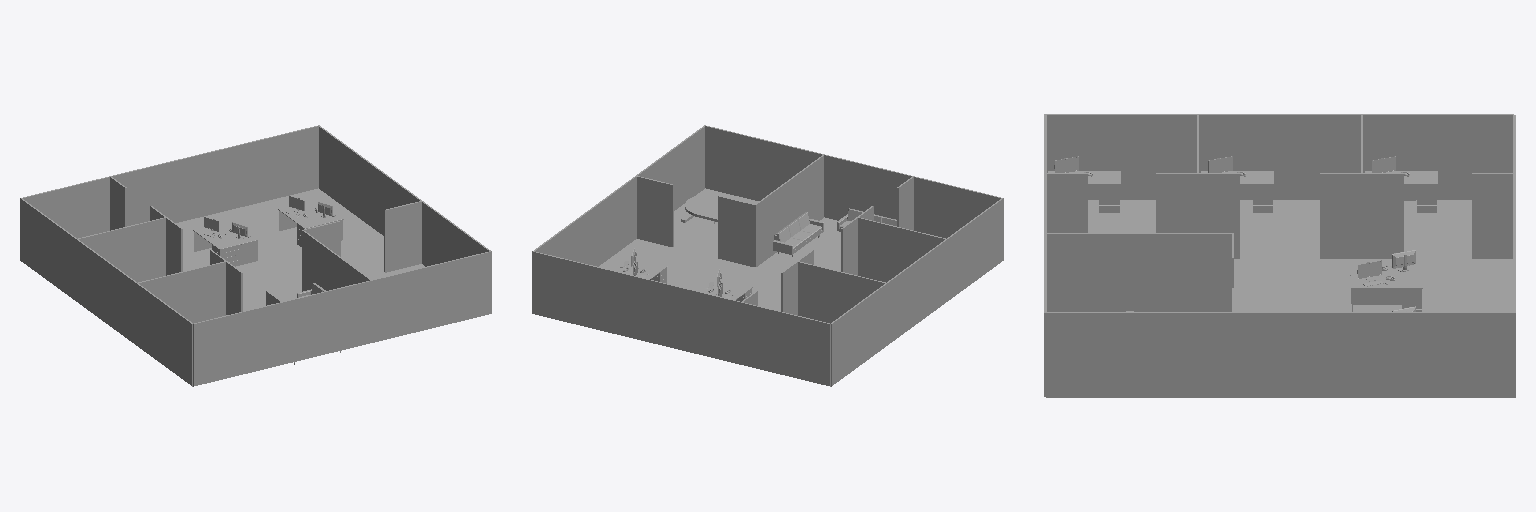
robot.urdf — car:
<?xml version="1.0"?>
<robot name="car">
    <material name="grey">
        <color rgba="0.7 0.7 0.7 1.0"/>
    </material>

    <link name="base">
        <visual>
            <origin rpy="1.5707 0 0" xyz="5 5 0.0"/>
            <geometry>
                <mesh filename="package://office/office.obj"/>
            </geometry>
            <material name="grey"/>
        </visual>
        <collision concave="yes">
            <origin rpy="1.5707 0 0" xyz="5 5 -0.1"/>
            <geometry>
                <mesh filename="package://office/office.obj"/>
            </geometry>
        </collision>
    </link>

</robot>

--- Render facts (derived) ---
The picture shows the robot from 3 angles, left to right: view 1: azimuth 30°, elevation 25°; view 2: azimuth 150°, elevation 25°; view 3: azimuth 270°, elevation 25°; orthographic projection.
Robot: car — 1 links, 0 joints (none); root link base; default pose: all joints at 0.
Visible links, largest first — view 1: base; view 2: base; view 3: base.
Boxes of the visible links, x1,y1,x2,y2 form: base: (20, 125, 491, 386); base: (532, 125, 1003, 386); base: (1044, 114, 1515, 397).
Bounding box of the posed robot: 20.1 × 20.1 × 4.3 m (x, y, z).
Meshes: 1 distinct files referenced, 1 mesh visuals loaded (1 OBJ).